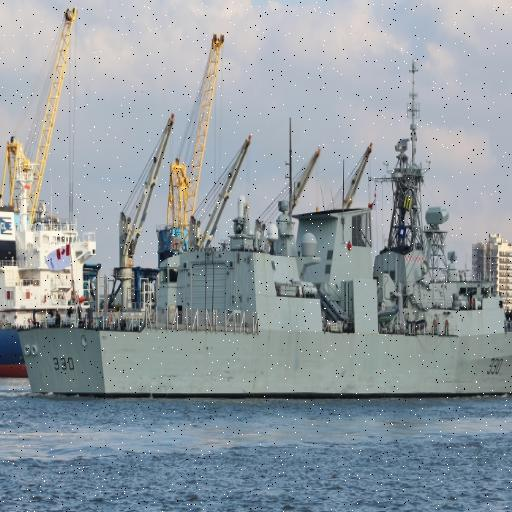Fragata: (16, 134, 512, 402)
